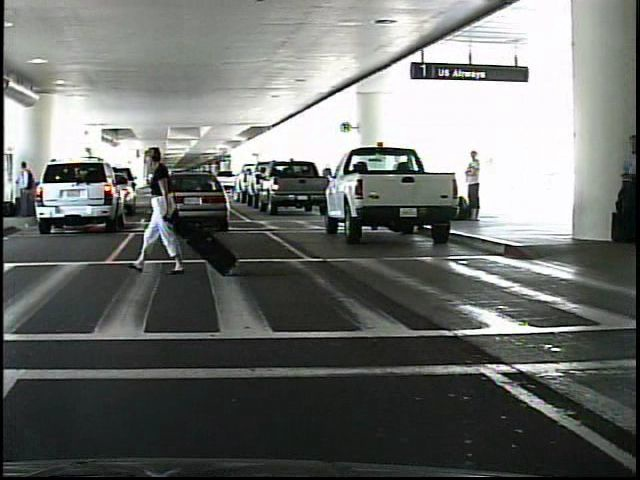person: (146, 149, 201, 279), (460, 152, 493, 224), (20, 159, 39, 221)
